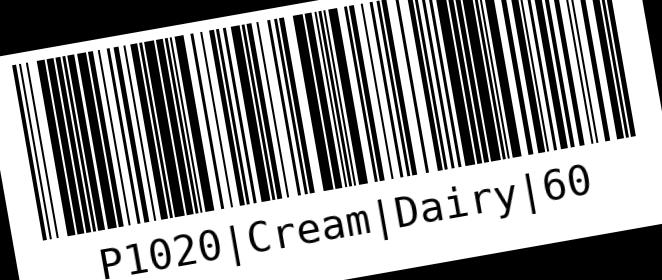milk: (6, 1, 659, 279)
